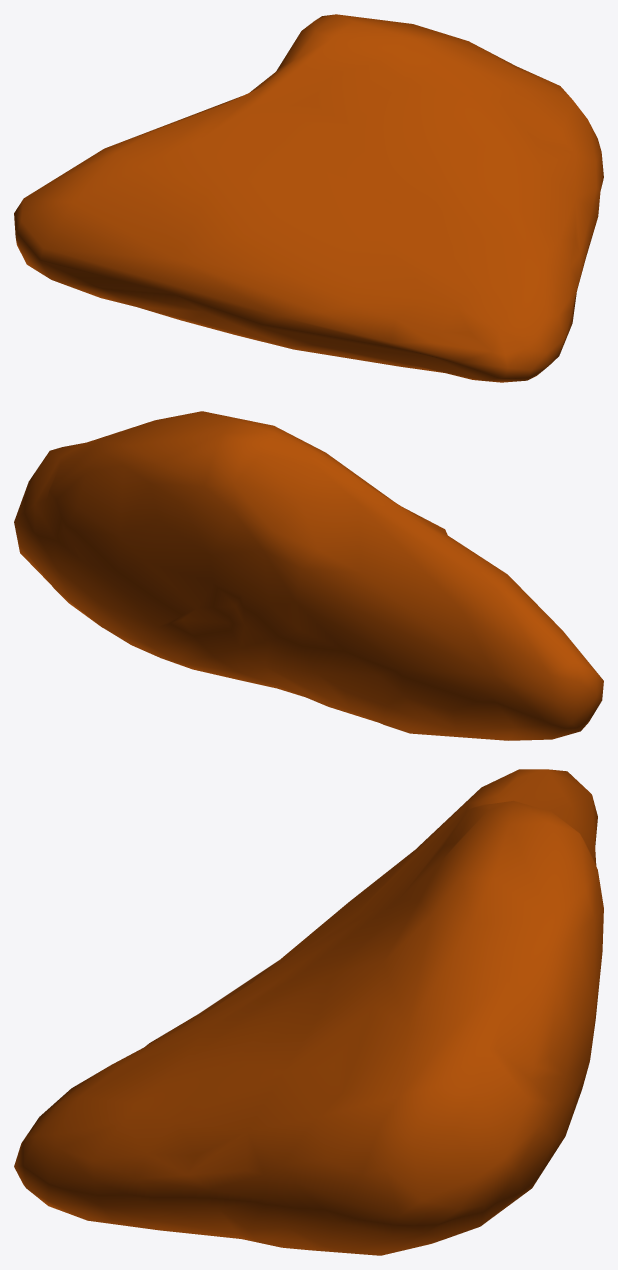
Rendered from uploads_files_3531945_rock.fbx.
The picture shows the model from 3 angles, top to bottom: view 1: azimuth 30°, elevation 25°; view 2: azimuth 150°, elevation 25°; view 3: azimuth 270°, elevation 25°; orthographic projection. The views are drawn at different scales.
Parts seen in each view (by area): view 1: Cube.001; view 2: Cube.001; view 3: Cube.001.
Part boxes in pixels (x1,y1,x2,y2): Cube.001: (14,14,603,382); Cube.001: (14,411,603,740); Cube.001: (14,769,603,1255).
Size of the model in its own units: 369 by 170 by 242.
